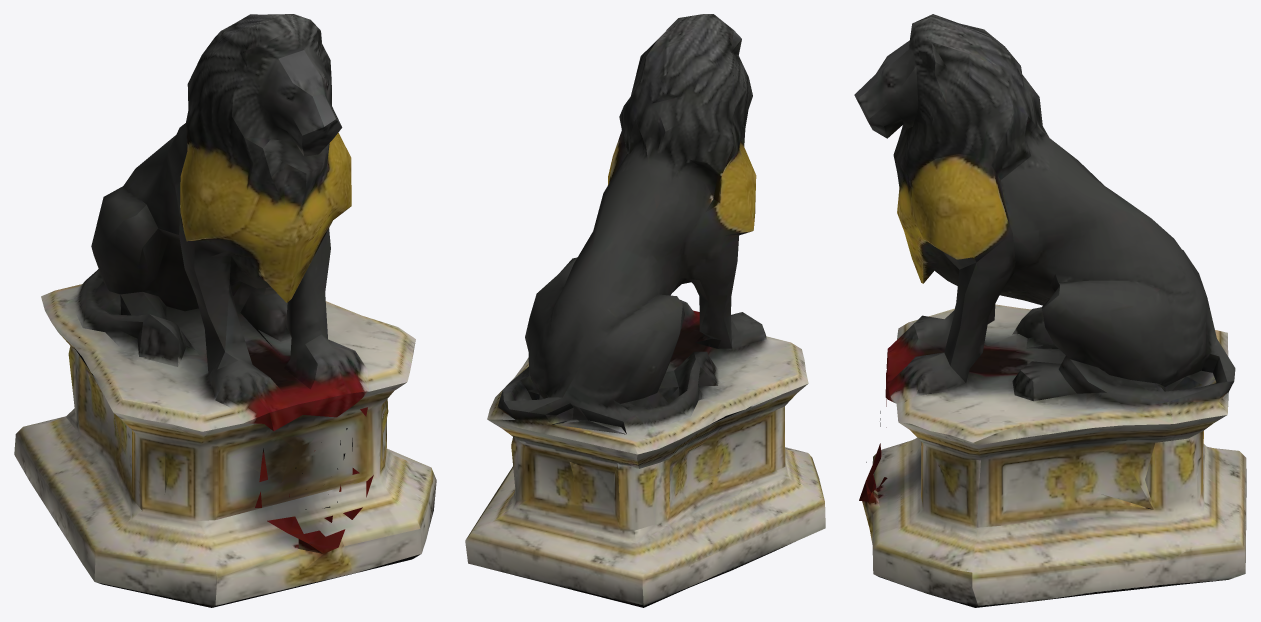
The model's file is town_lion_lod.glb.
3 renders of one model, left to right at view 1: azimuth 30°, elevation 25°; view 2: azimuth 150°, elevation 25°; view 3: azimuth 270°, elevation 25°, orthographic. The views are drawn at different scales.
Visible parts, largest first — view 1: town_lion; view 2: town_lion; view 3: town_lion.
Part boxes in pixels (box(x1,y1,x2,y2)): town_lion: box(14, 14, 436, 607); town_lion: box(465, 14, 825, 607); town_lion: box(854, 14, 1246, 607).
Size of the model in its own units: 2.93 by 4.5 by 3.12.
1 material, 1 textured.
